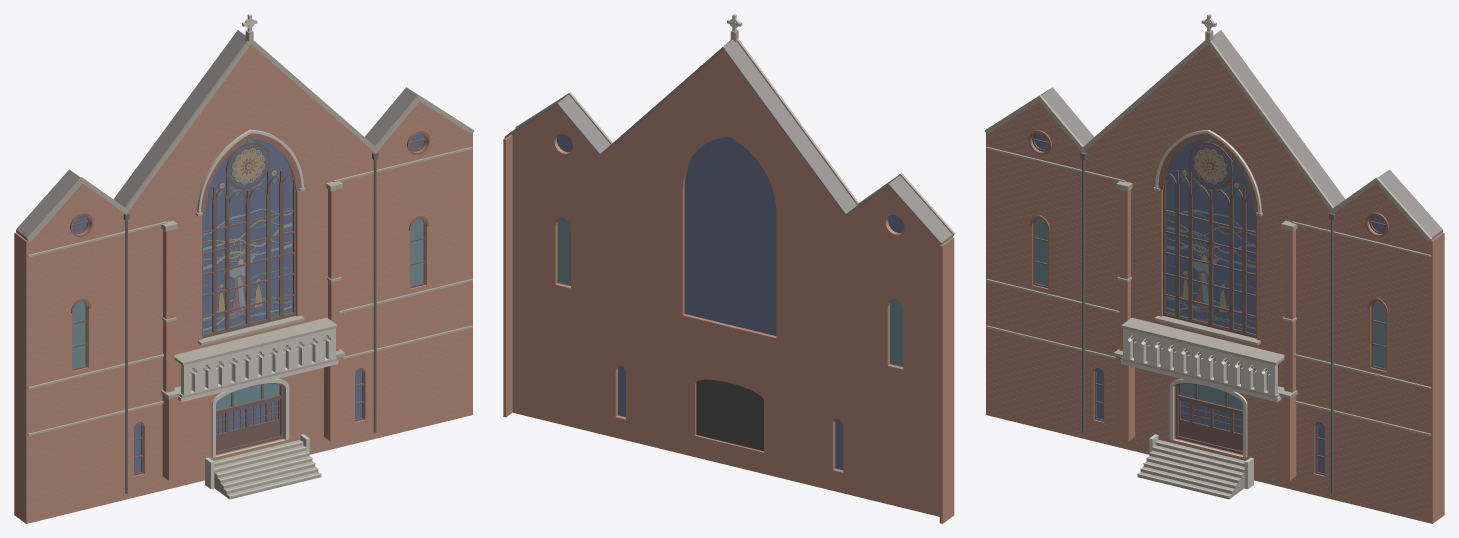
File: hongkou-jingling-church-north-front-web.glb
The picture shows the model from 3 angles, left to right: view 1: azimuth 30°, elevation 25°; view 2: azimuth 150°, elevation 25°; view 3: azimuth 330°, elevation 25°; orthographic projection.
Visible parts, largest first — view 1: 景灵堂昆山路北门山墙与修复花窗; view 2: 景灵堂昆山路北门山墙与修复花窗; view 3: 景灵堂昆山路北门山墙与修复花窗.
Part boxes in pixels (box(x1,y1,x2,y2)): 景灵堂昆山路北门山墙与修复花窗: box(14, 14, 474, 523); 景灵堂昆山路北门山墙与修复花窗: box(503, 14, 955, 523); 景灵堂昆山路北门山墙与修复花窗: box(984, 14, 1444, 523).
Bounding box in the file's own units: 25.56 × 24.85 × 3.76.
